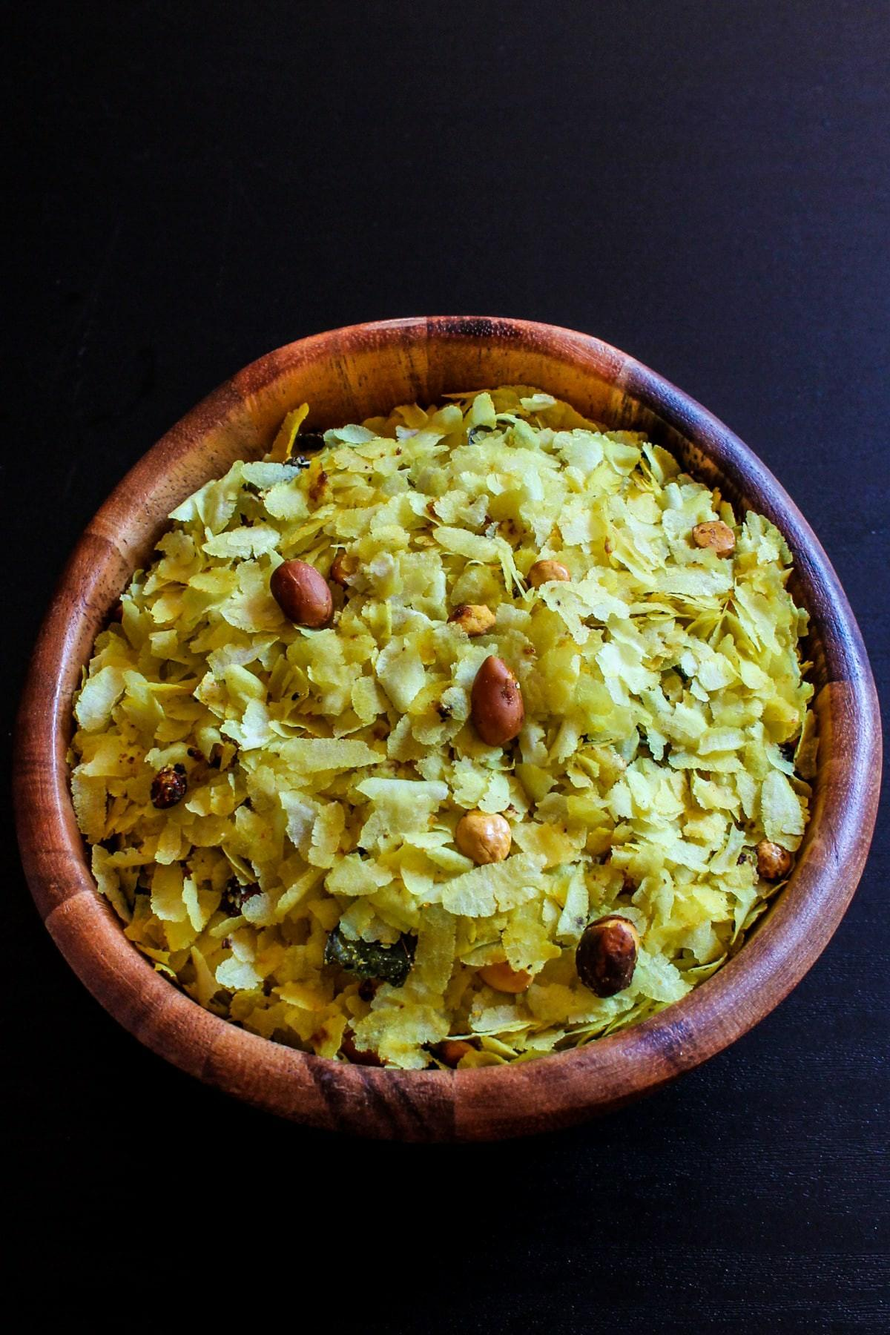Poha: (65, 379, 822, 1076)
